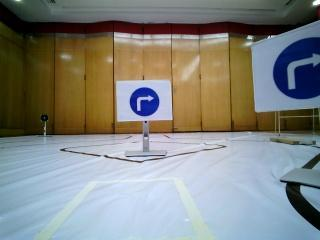right: (257, 43, 320, 105), (117, 81, 178, 122)
